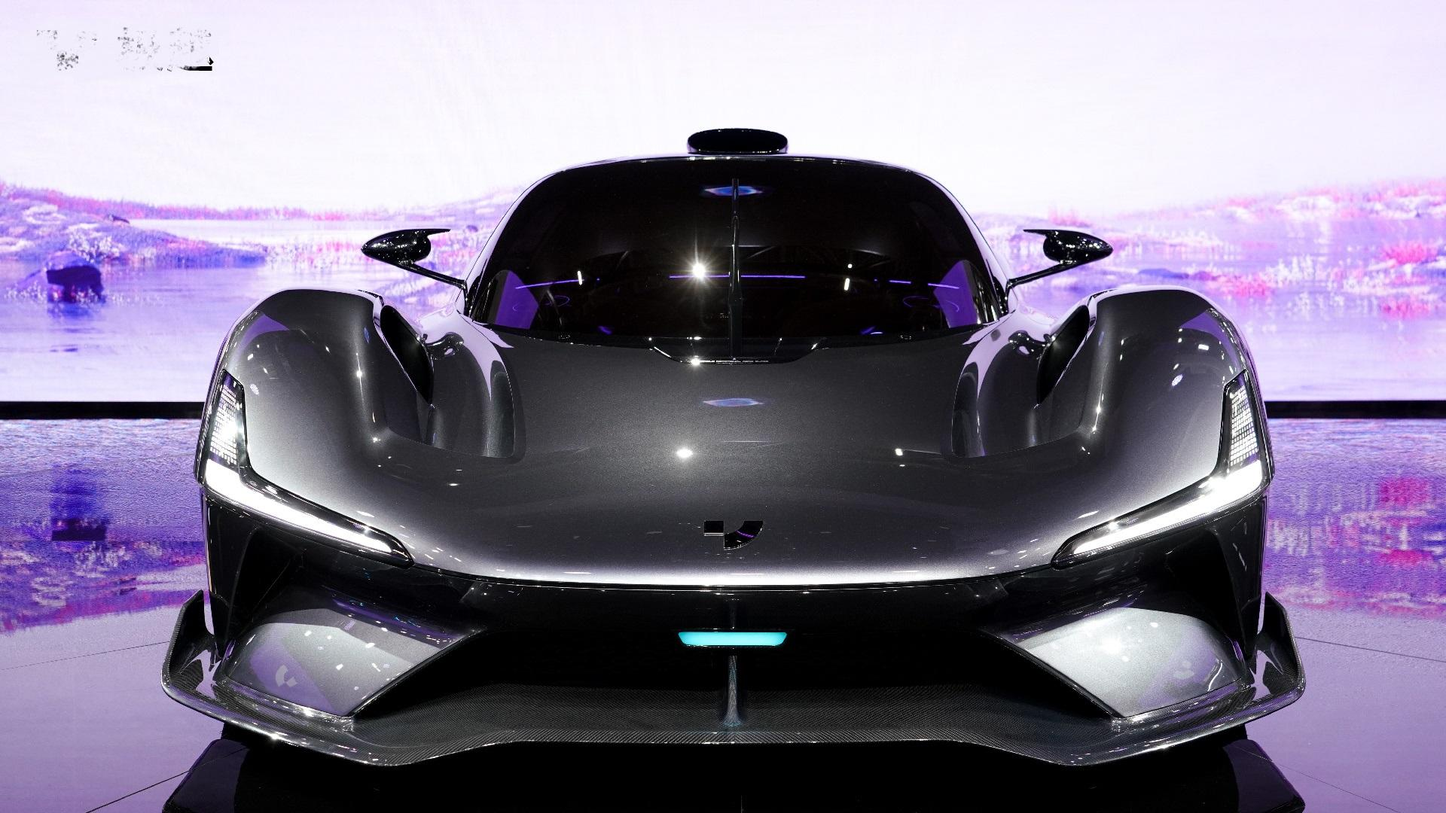JIYUE: (703, 519, 764, 549)
